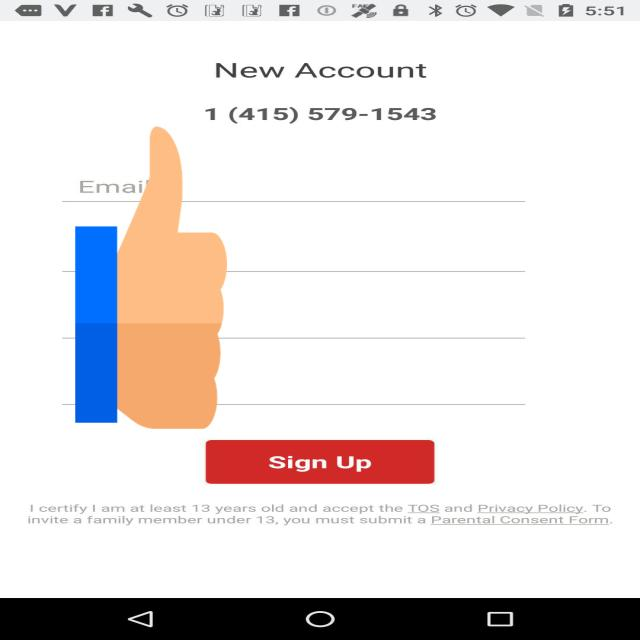privacy zuckering: (75, 119, 227, 436)
